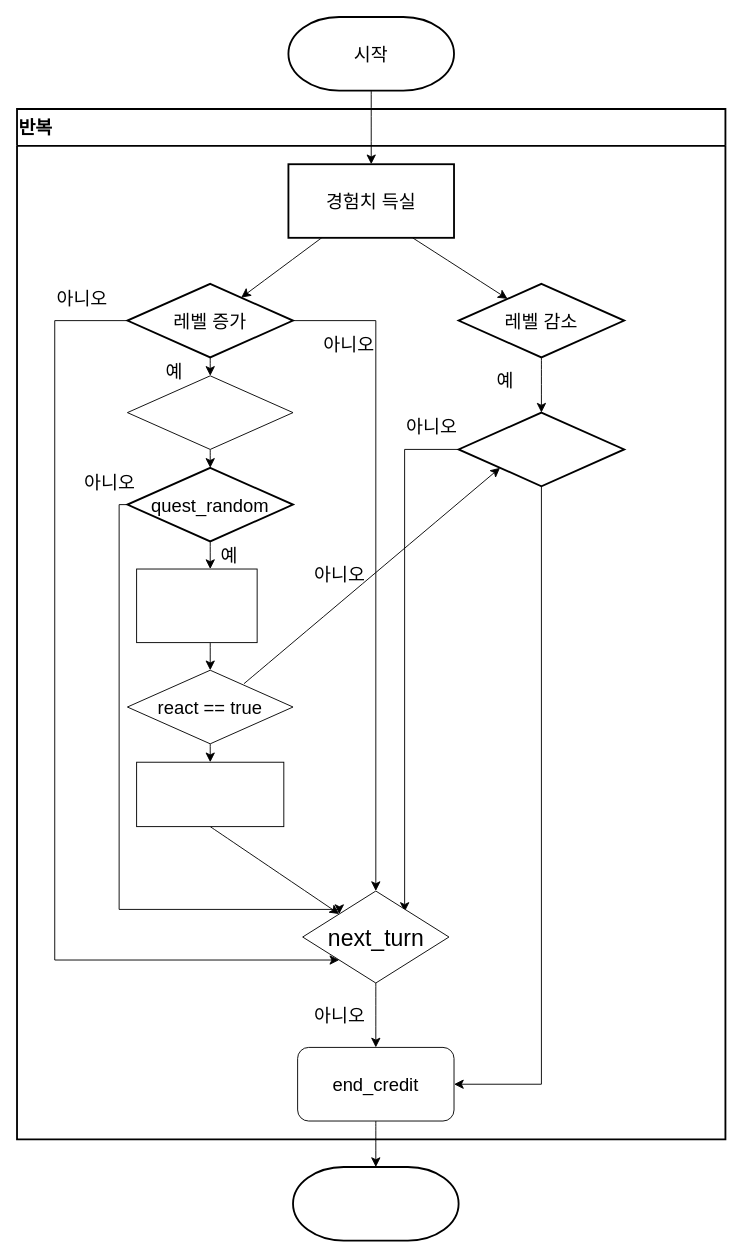
This 742x1257 diagram has some shape labels left out. Here are the shapes that lost their labels. From the top down, the centre of each, then its label:
At point (209, 412): "lv>=100".
At point (541, 449): "lv =0 || lv=1".
At point (196, 605): "quest".
At point (210, 794): "any.exp+=300".
At point (375, 1203): "종료".
